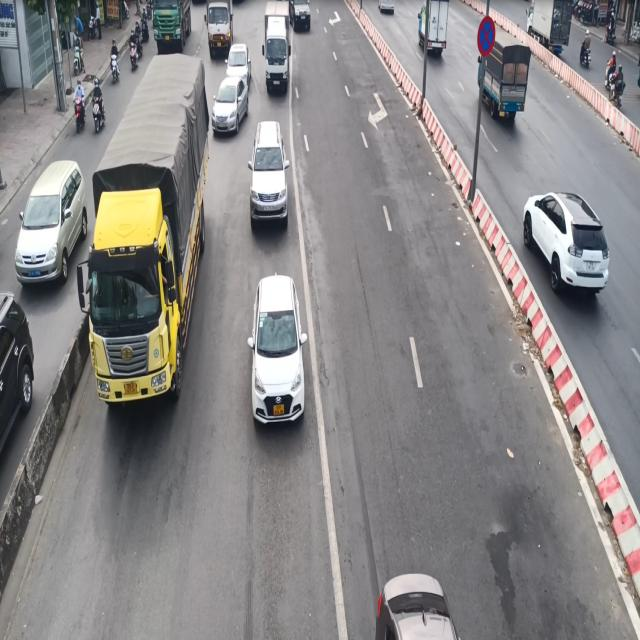car: (245, 268, 311, 436), (8, 152, 90, 286), (247, 120, 290, 244), (212, 70, 250, 148)
motor: (92, 75, 110, 141), (68, 76, 88, 135), (108, 34, 122, 95)
truck: (84, 52, 216, 423)
